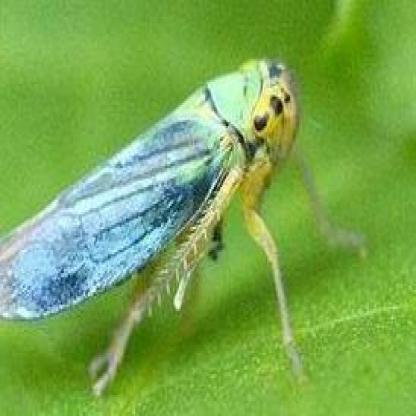Green-Leafhopper: (3, 48, 365, 384)
